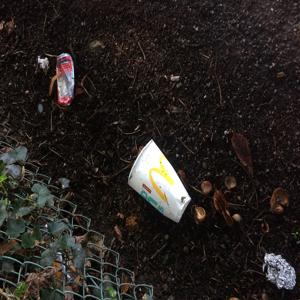cardboard: (123, 135, 206, 223)
metal: (261, 239, 299, 293), (48, 51, 71, 107)
